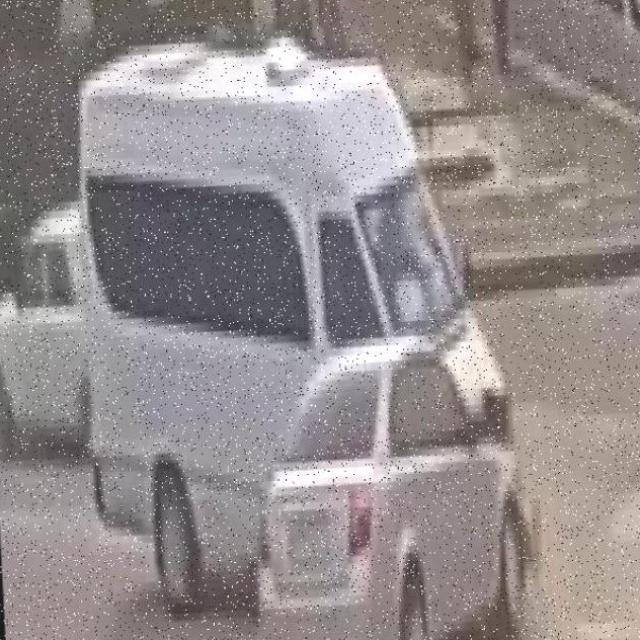accident: (50, 25, 558, 639)
